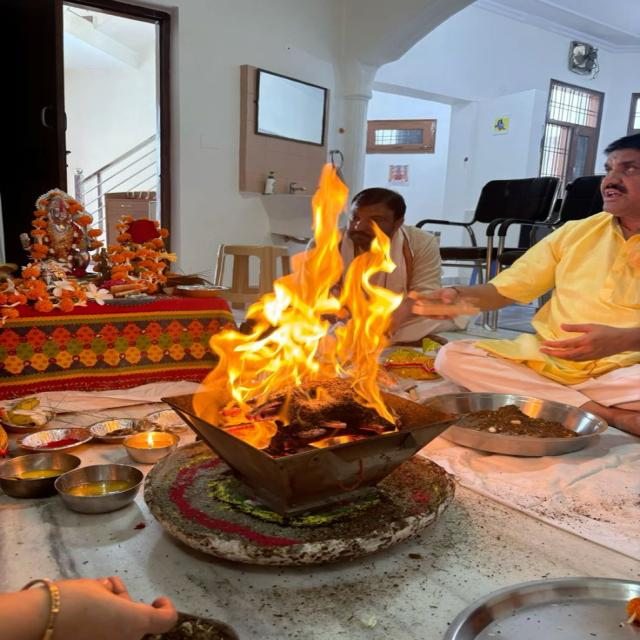fire: (194, 161, 406, 425)
